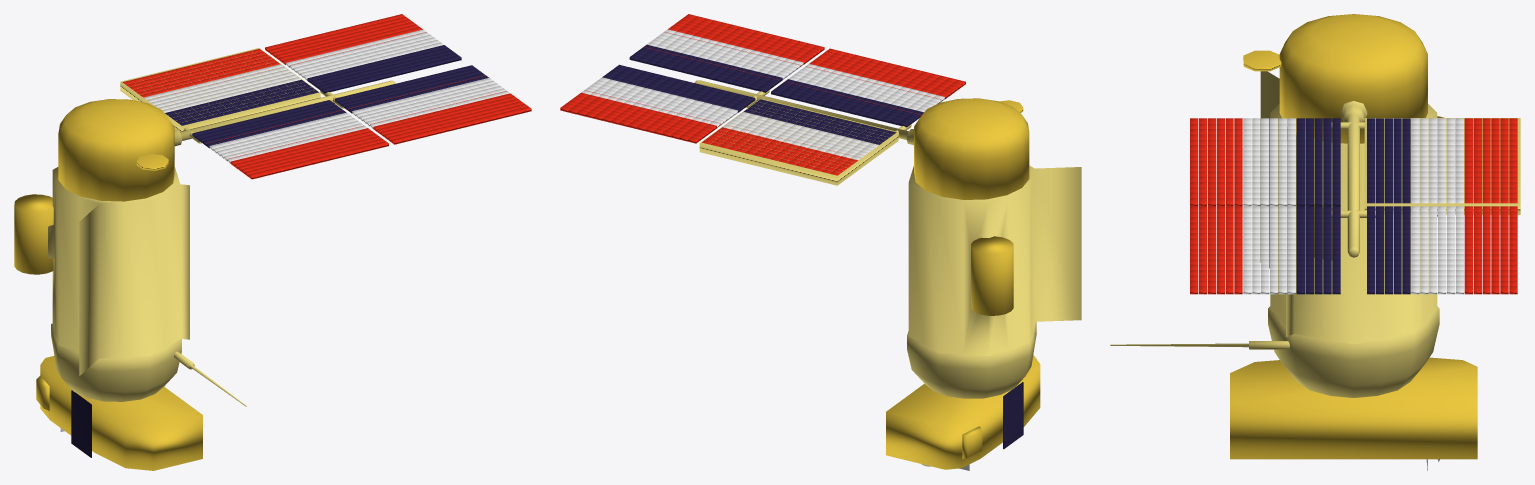
The model's file is satellite_3_1784487449167_model.glb.
3 renders of one model, left to right at view 1: azimuth 30°, elevation 25°; view 2: azimuth 150°, elevation 25°; view 3: azimuth 270°, elevation 25°, orthographic. The views are drawn at different scales.
Visible parts, largest first — view 1: Cylinder, Cylinder.001, Cube, Cube.009, Cube.011, Cube.010, Cube.008, Cylinder.009, Cube.007, Cylinder.012, Cube.005; view 2: Cylinder, Cylinder.001, Cube.011, Cube.010, Cube.009, Cube, Cube.008, Cube.007, Cylinder.009, Cube.005, Cylinder.012, Cube.006; view 3: Cylinder, Cube, Cylinder.001, Cube.010, Cube.009, Cube.011, Cube.008, Cube.007, Cylinder.012, Cylinder.015, Cylinder.011.
Boxes of the visible parts, left/top/right/bottom form: Cylinder: left=48, top=167, right=189, bottom=401; Cylinder.001: left=58, top=99, right=174, bottom=201; Cube: left=40, top=356, right=202, bottom=470; Cube.009: left=192, top=100, right=388, bottom=179; Cube.011: left=335, top=65, right=531, bottom=144; Cube.010: left=265, top=14, right=461, bottom=93; Cube.008: left=122, top=49, right=318, bottom=125; Cylinder.009: left=14, top=194, right=53, bottom=274; Cube.007: left=120, top=48, right=320, bottom=131; Cylinder.012: left=174, top=80, right=395, bottom=146; Cube.005: left=71, top=390, right=91, bottom=457; Cylinder: left=907, top=165, right=1081, bottom=398; Cylinder.001: left=914, top=98, right=1029, bottom=199; Cube.011: left=629, top=14, right=824, bottom=92; Cube.010: left=560, top=64, right=755, bottom=143; Cube.009: left=771, top=48, right=965, bottom=127; Cube: left=886, top=355, right=1040, bottom=469; Cube.008: left=702, top=99, right=896, bottom=175; Cube.007: left=699, top=98, right=898, bottom=185; Cylinder.009: left=971, top=236, right=1013, bottom=315; Cube.005: left=1003, top=382, right=1023, bottom=449; Cylinder.012: left=695, top=80, right=913, bottom=145; Cube.006: left=962, top=426, right=982, bottom=459; Cylinder: left=1260, top=71, right=1439, bottom=397; Cube: left=1230, top=357, right=1477, bottom=459; Cylinder.001: left=1279, top=14, right=1427, bottom=143; Cube.010: left=1367, top=206, right=1517, bottom=294; Cube.009: left=1190, top=118, right=1340, bottom=206; Cube.011: left=1190, top=206, right=1340, bottom=294; Cube.008: left=1367, top=118, right=1517, bottom=203; Cube.007: left=1364, top=118, right=1520, bottom=214; Cylinder.012: left=1340, top=101, right=1367, bottom=257; Cylinder.015: left=1110, top=341, right=1289, bottom=349; Cylinder.011: left=1243, top=50, right=1281, bottom=71.
Bounding box in the file's own units: 7.42 × 5.61 × 4.91.
